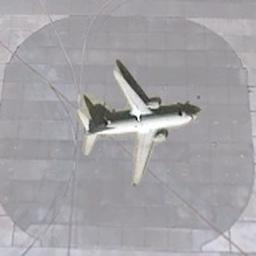Airplane: (75, 57, 201, 186)
